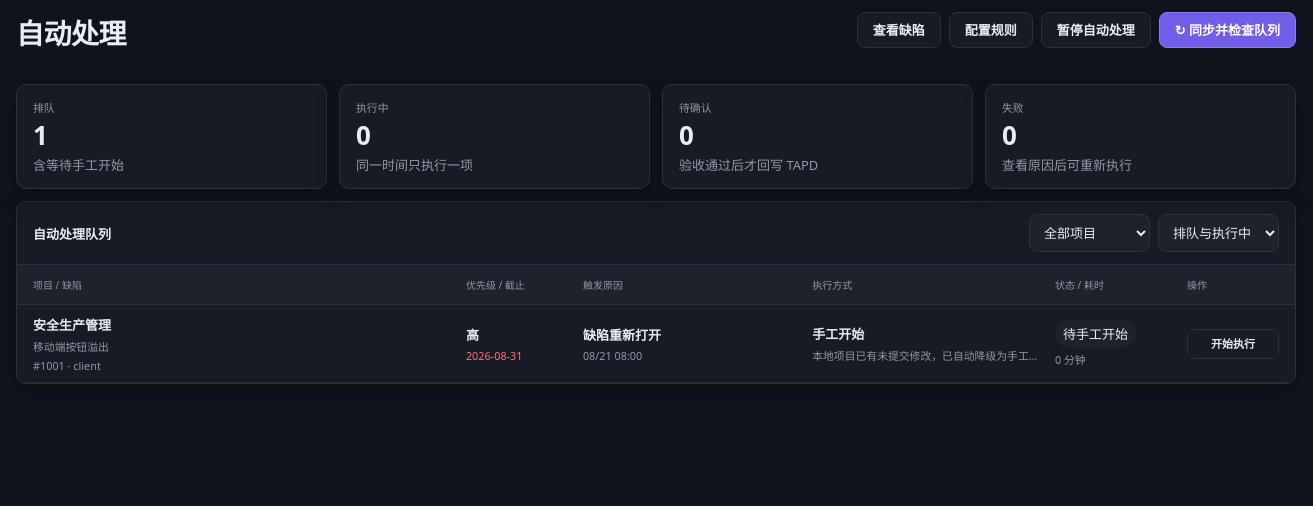
Scenario: TapdAutomationView › 可以从主界面全局暂停自动处理
Click the button "暂停自动处理" at (1096, 30), box x1=1041 y1=12 x2=1151 y2=48
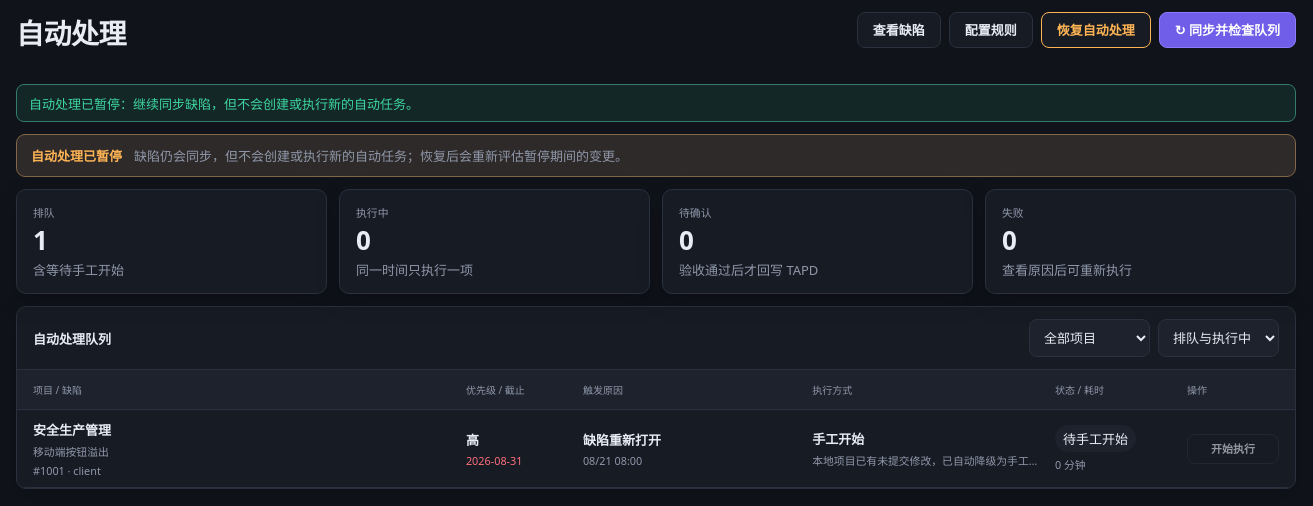
Check: the element with class "automation-paused" shows "自动处理已暂停", box x1=31 y1=147 x2=122 y2=165
